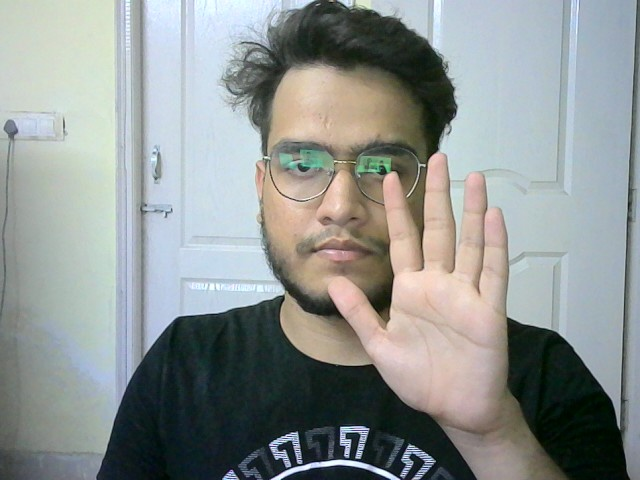Hello: (329, 161, 517, 418)
